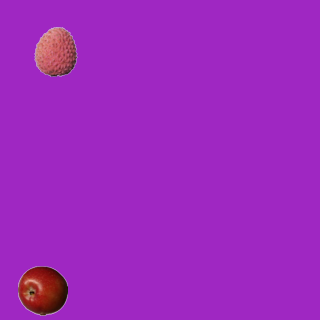Apple Braeburn: (17, 265, 67, 315)
Lychee: (30, 26, 80, 76)
